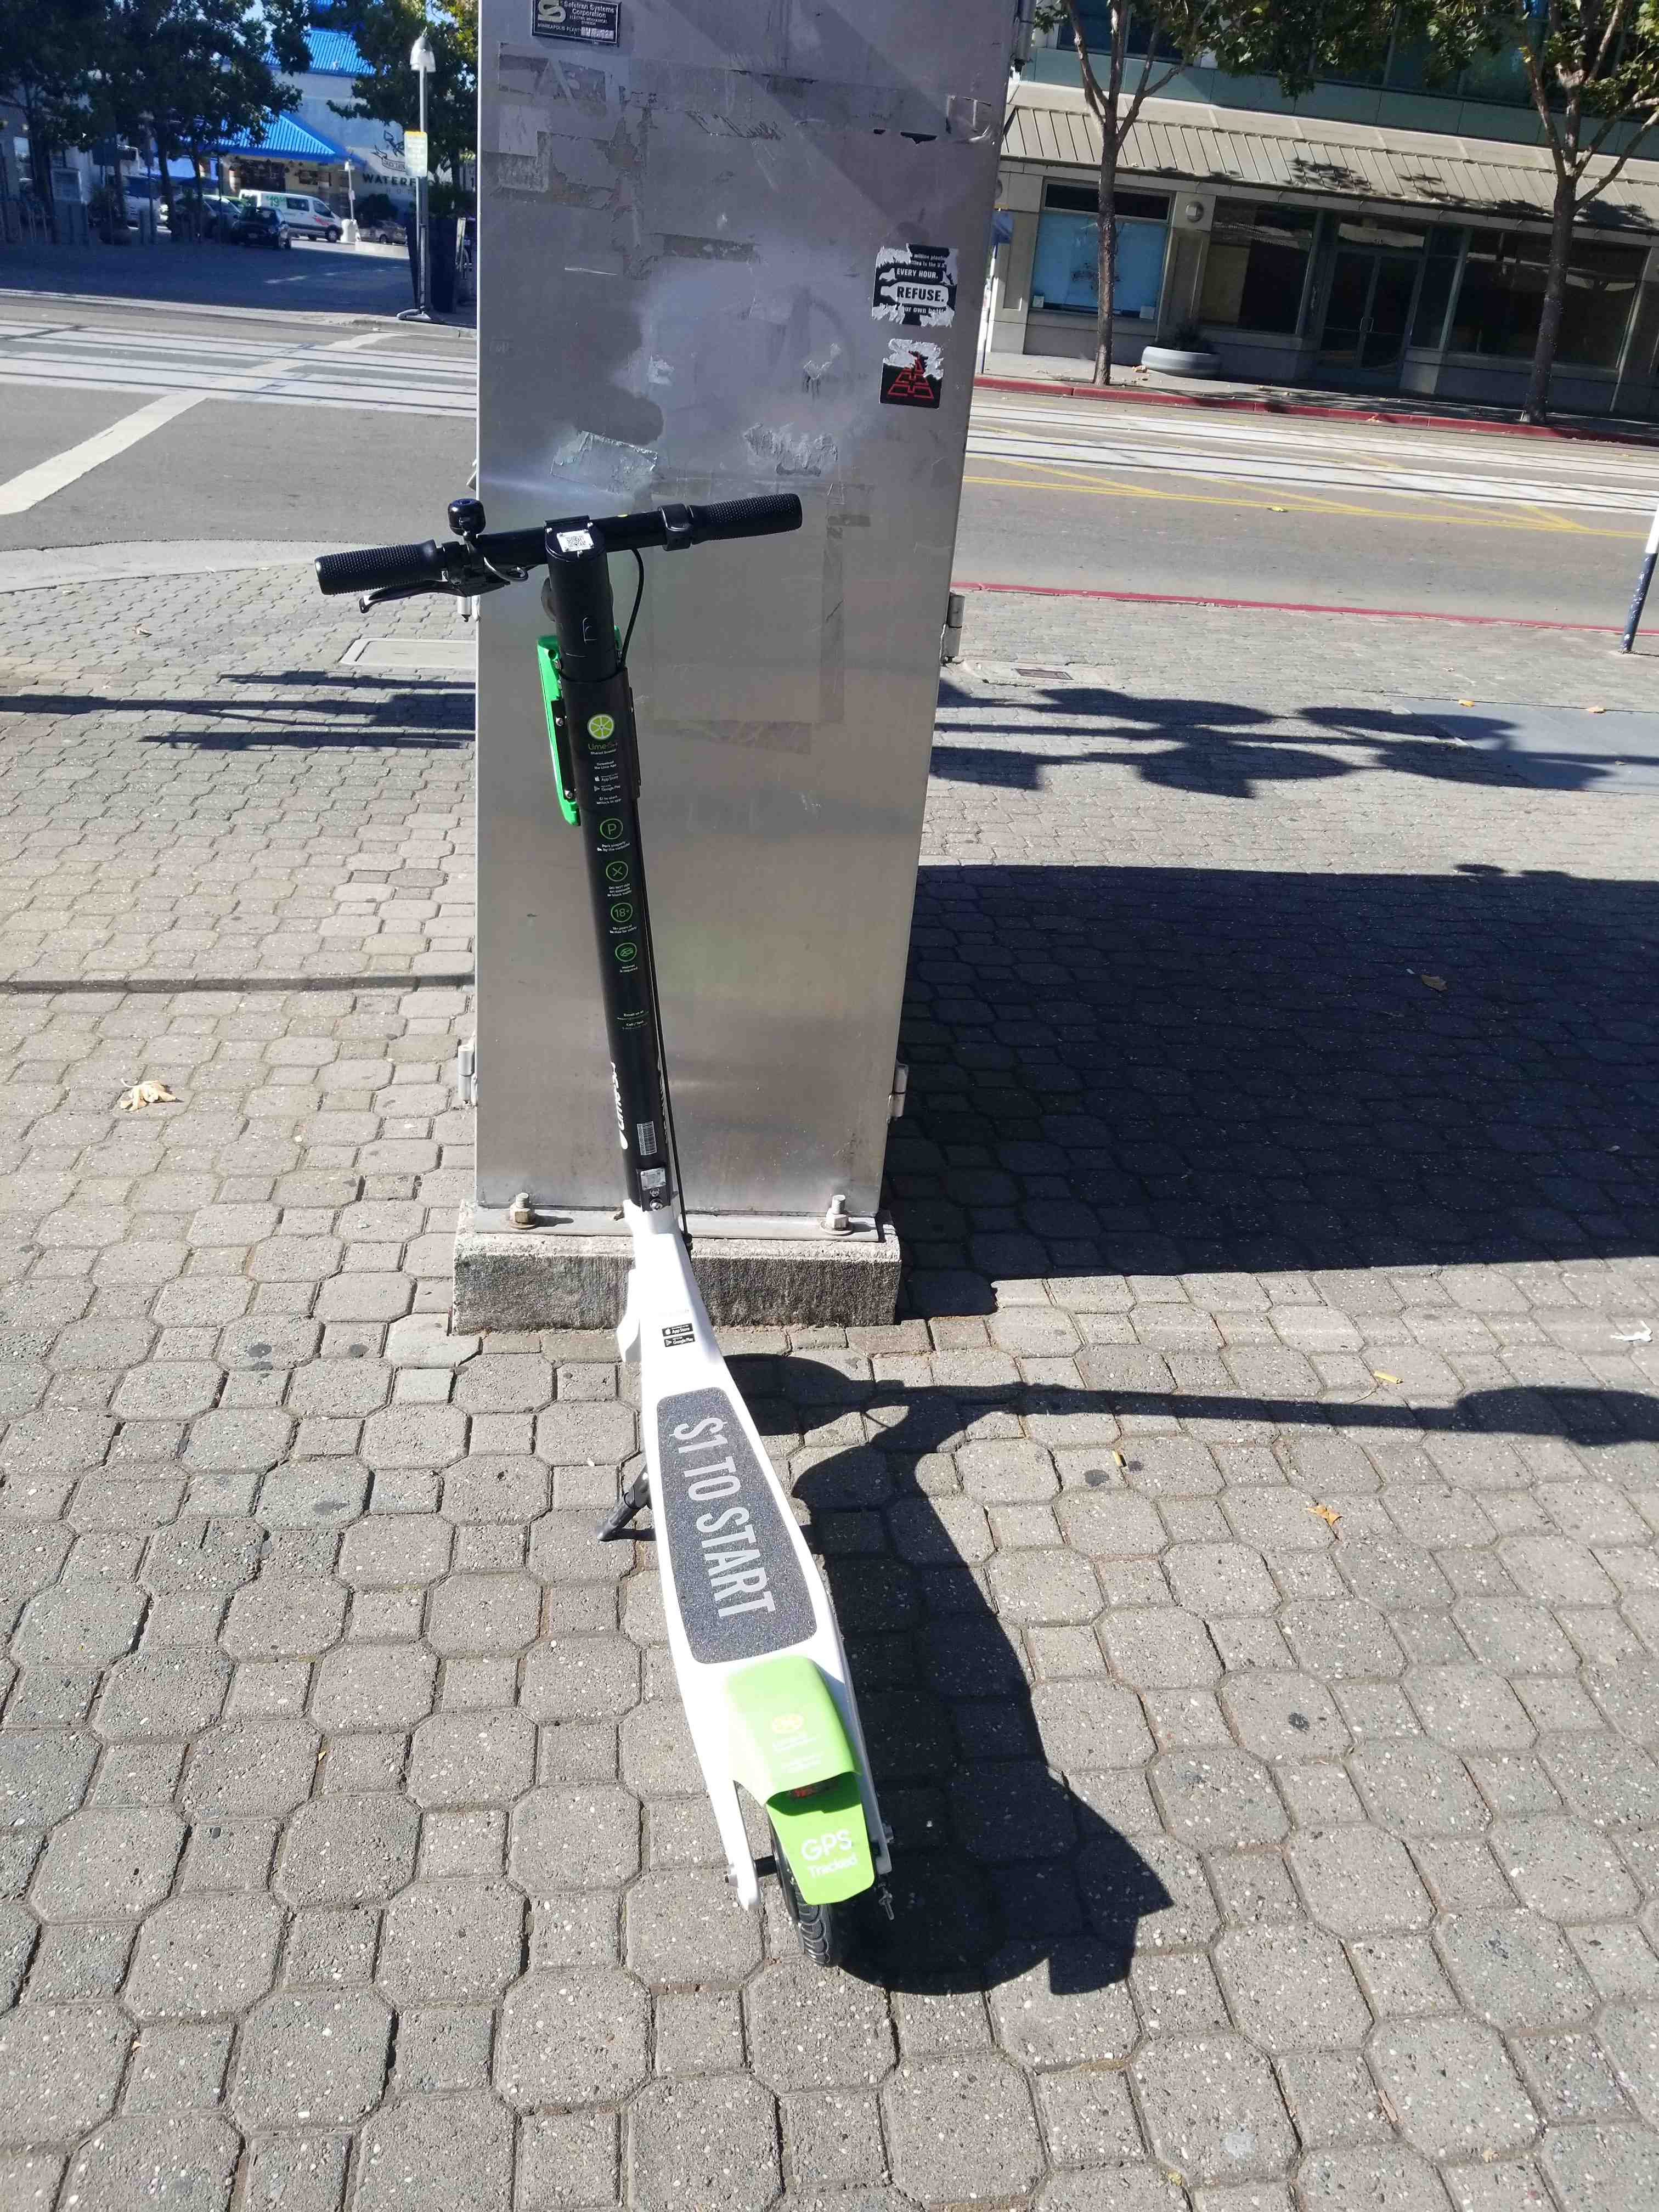scooter: (275, 467, 1018, 2027)
